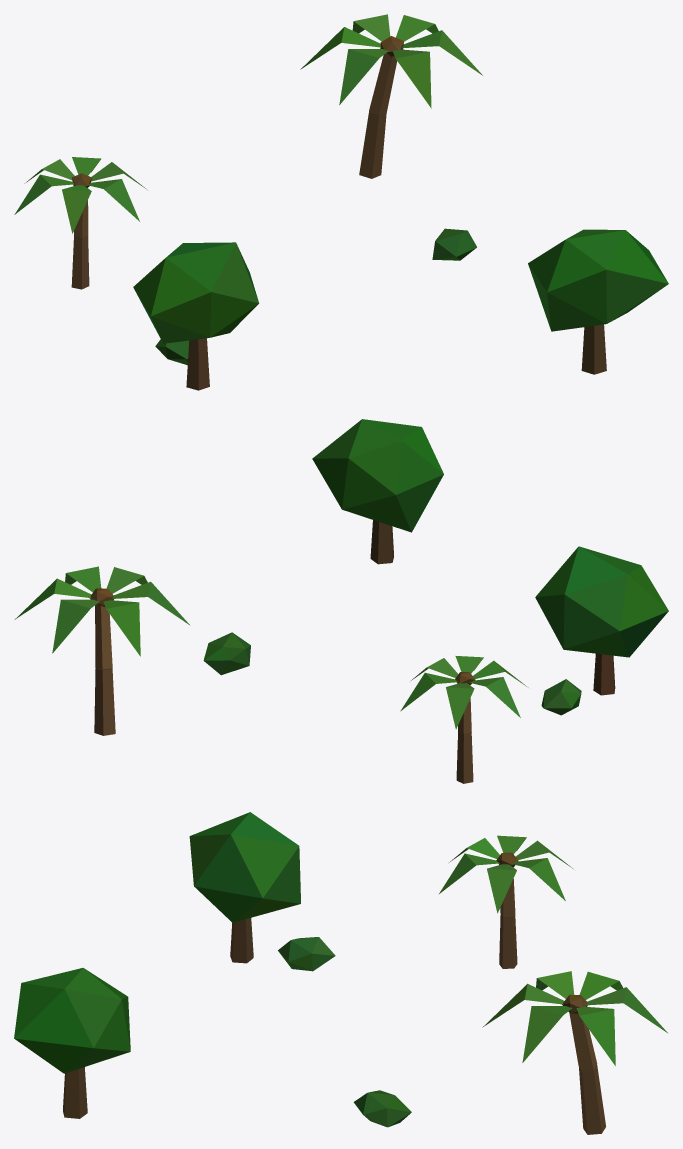
The model's file is Jungle-Far.glb.
3 views of the same model, one above another, from view 1: azimuth 30°, elevation 25°; view 2: azimuth 150°, elevation 25°; view 3: azimuth 270°, elevation 25° (orthographic). The views are drawn at different scales.
Parts seen in each view (by area): view 1: Jungle-Far; view 2: Jungle-Far; view 3: Jungle-Far.
Part boxes in pixels (box(x1,y1,x2,y2)): Jungle-Far: box(14, 14, 668, 390); Jungle-Far: box(14, 419, 668, 783); Jungle-Far: box(14, 812, 667, 1134).
Size of the model in its own units: 1.34 by 0.3833 by 1.54.
